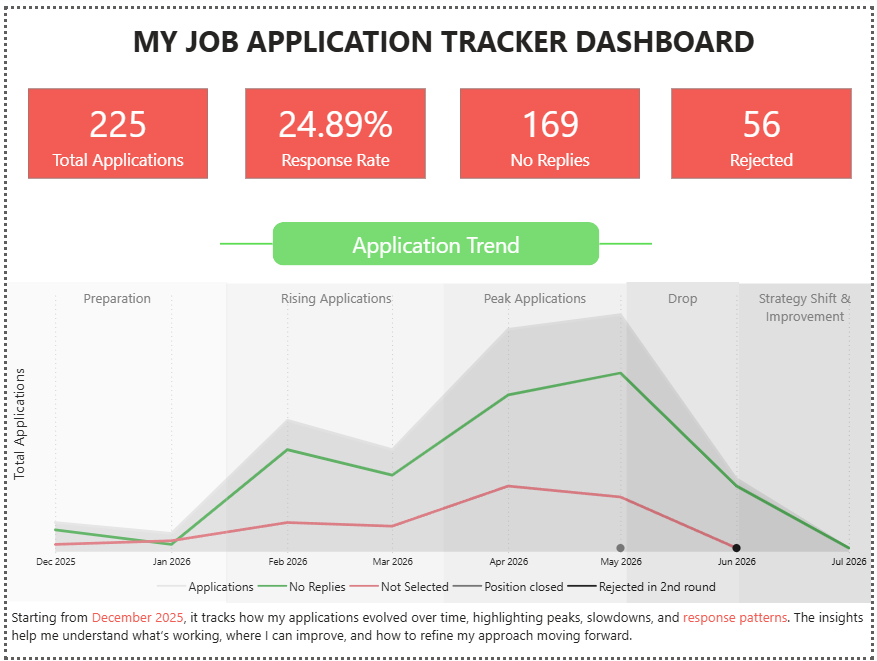

The dashboard page shown, as its layout file describes it:
{"tool":"powerbi","page":{"name":"Overview","canvas":[960,720],"ordinal":0},"visuals":[{"type":"textbox","box":[10,0,950,70],"z":0},{"type":"card","fields":{"Values":["Job_application.Total Applications"]},"box":[23.3,88.3,200,100],"z":1000},{"type":"card","fields":{"Values":["Job_application.No Replies"]},"box":[503.3,88.3,200,100],"z":2000},{"type":"card","fields":{"Values":["Job_application.Response Rate"]},"box":[265,88.3,200,100],"z":3000},{"type":"lineChart","fields":{"Y":["Job_application.Total Applications","Job_application.No Replies","Date_Table.Not Selected","Date_Table.Position closed","Date_Table.Rejected in 2nd round"],"Category":["Date_Table.Month Year"]},"box":[0,305,960,355],"z":4000},{"type":"shape","box":[295,236.7,363.3,48.3],"z":5000},{"type":"shape","box":[0,303.3,245,355],"z":6000},{"type":"shape","box":[243.3,305,241.7,358.3],"z":7000},{"type":"shape","box":[485,305,203.3,358.3],"z":8000},{"type":"shape","box":[688.3,303.3,125,358.3],"z":9000},{"type":"shape","box":[813.3,305,146.7,356.7],"z":10000},{"type":"textbox","box":[0,305,245,38.3],"z":11000},{"type":"textbox","box":[245,305,241.7,38.3],"z":12000},{"type":"textbox","box":[485,305,203.3,38.3],"z":13000},{"type":"textbox","box":[688.3,305,125,51.7],"z":14000},{"type":"textbox","box":[813.3,305,146.7,75],"z":15000},{"type":"shape","box":[236.7,115,58.3,291.7],"z":16000},{"type":"shape","box":[658.3,115,58.3,291.7],"z":17000},{"type":"textbox","box":[0,660,960,60],"z":18000},{"type":"card","fields":{"Values":["Job_application.Rejected"]},"box":[738.3,88.3,200,100],"z":19000}]}

Visuals, with their boxes in screenshot pixels (x1, y1, x2, y2), scaled from the page's 960x720 canvas onto the 877x661 screenshot:
textbox: <region>9, 0, 876, 64</region>
card - Job_application.Total Applications: <region>21, 81, 204, 173</region>
card - Job_application.No Replies: <region>460, 81, 642, 173</region>
card - Job_application.Response Rate: <region>242, 81, 425, 173</region>
lineChart - Job_application.Total Applications x Job_application.No Replies: <region>0, 280, 876, 606</region>
shape: <region>269, 217, 601, 262</region>
shape: <region>0, 278, 224, 604</region>
shape: <region>222, 280, 443, 609</region>
shape: <region>443, 280, 629, 609</region>
shape: <region>629, 278, 743, 607</region>
shape: <region>743, 280, 876, 607</region>
textbox: <region>0, 280, 224, 315</region>
textbox: <region>224, 280, 445, 315</region>
textbox: <region>443, 280, 629, 315</region>
textbox: <region>629, 280, 743, 327</region>
textbox: <region>743, 280, 876, 349</region>
shape: <region>216, 106, 269, 373</region>
shape: <region>601, 106, 655, 373</region>
textbox: <region>0, 606, 876, 660</region>
card - Job_application.Rejected: <region>674, 81, 857, 173</region>
